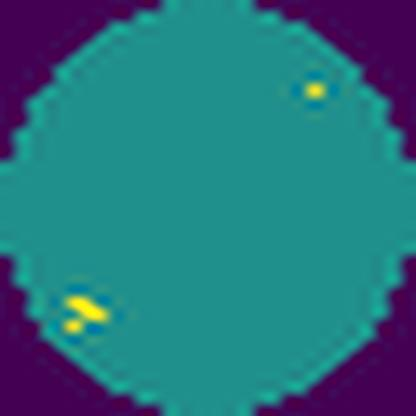Loc: (63, 288, 109, 340)
